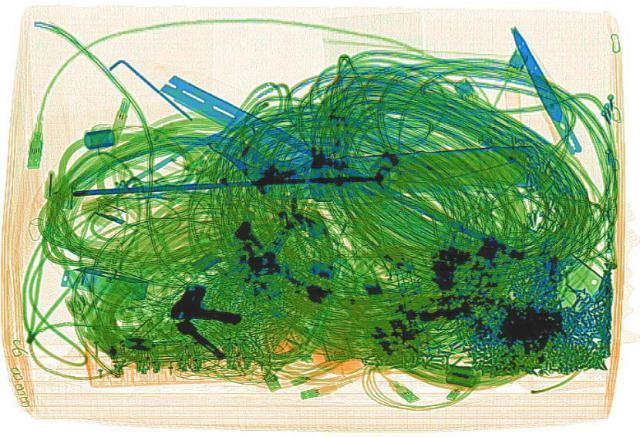Gun: (167, 281, 247, 324)
